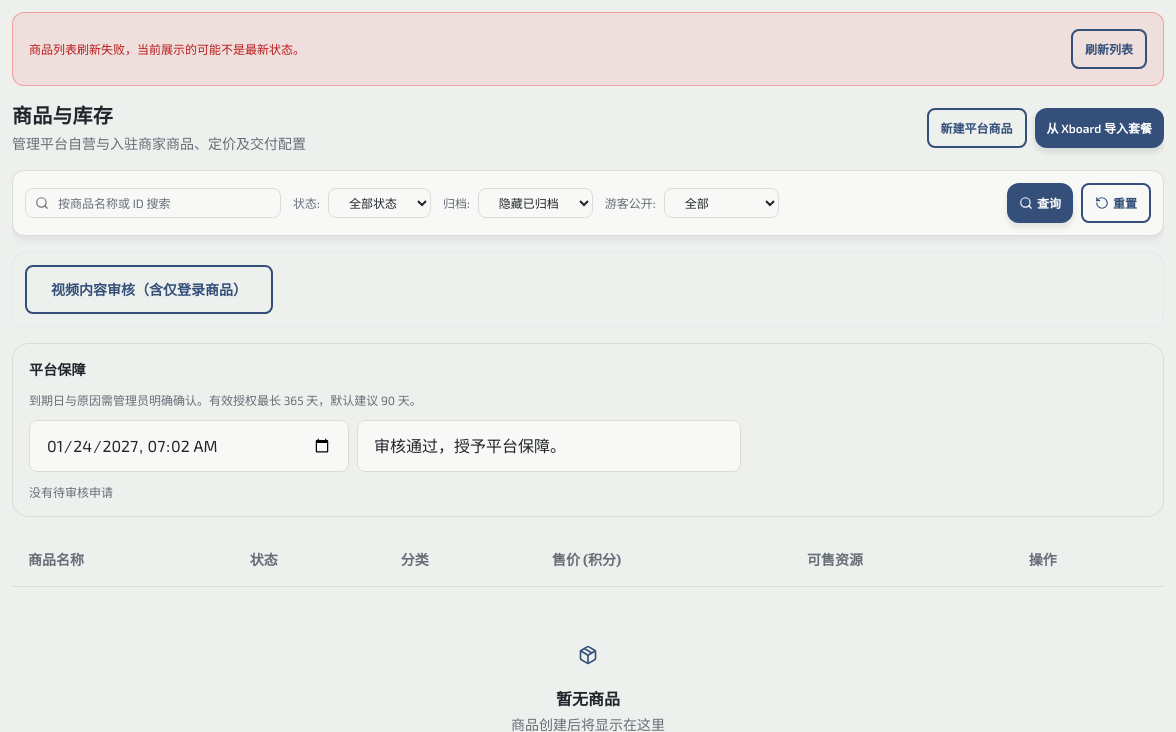
Scenario: AdminProductPanel (PR 04) › shows error banner when getAdminProducts fails and allows retry
Expected: the message with test id "admin-products-refresh-error" shows "商品列表刷新失败", [29, 42, 305, 56]
Click the button with test id "admin-products-refresh-retry": (1109, 49) [1071, 29, 1147, 69]
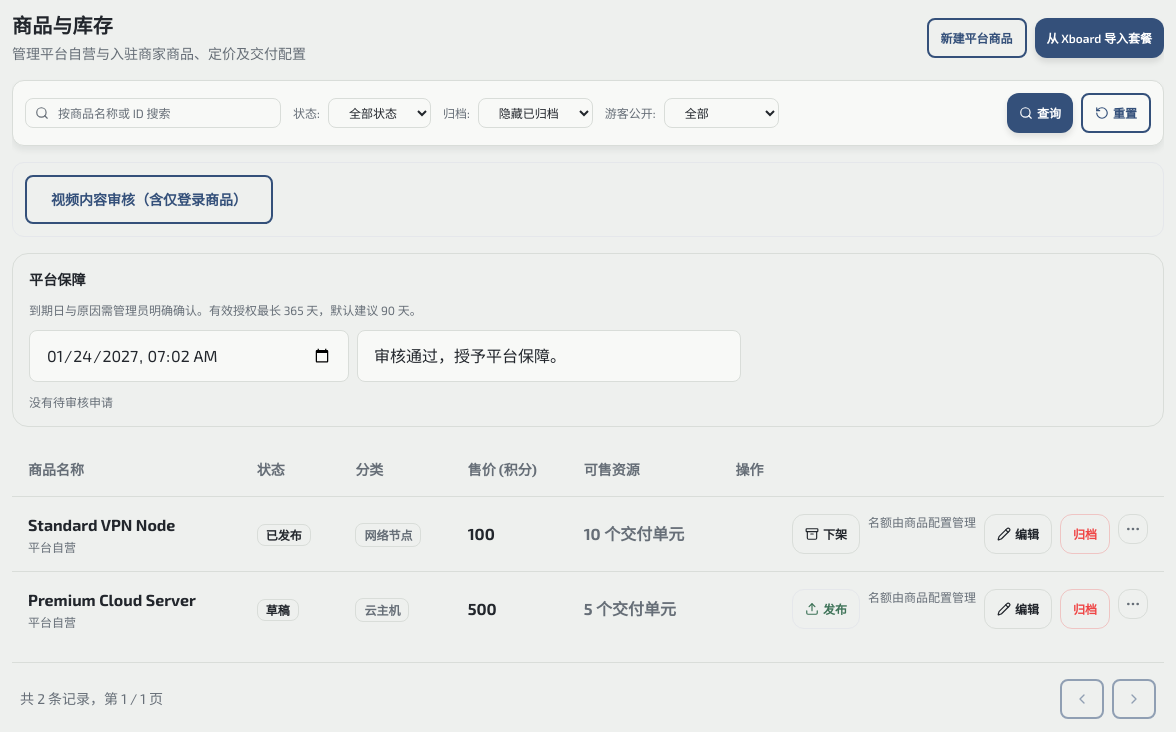
Now the text "Standard VPN Node" is shown, box [28, 515, 175, 534]
Now the message with test id "admin-products-refresh-error" is gone
